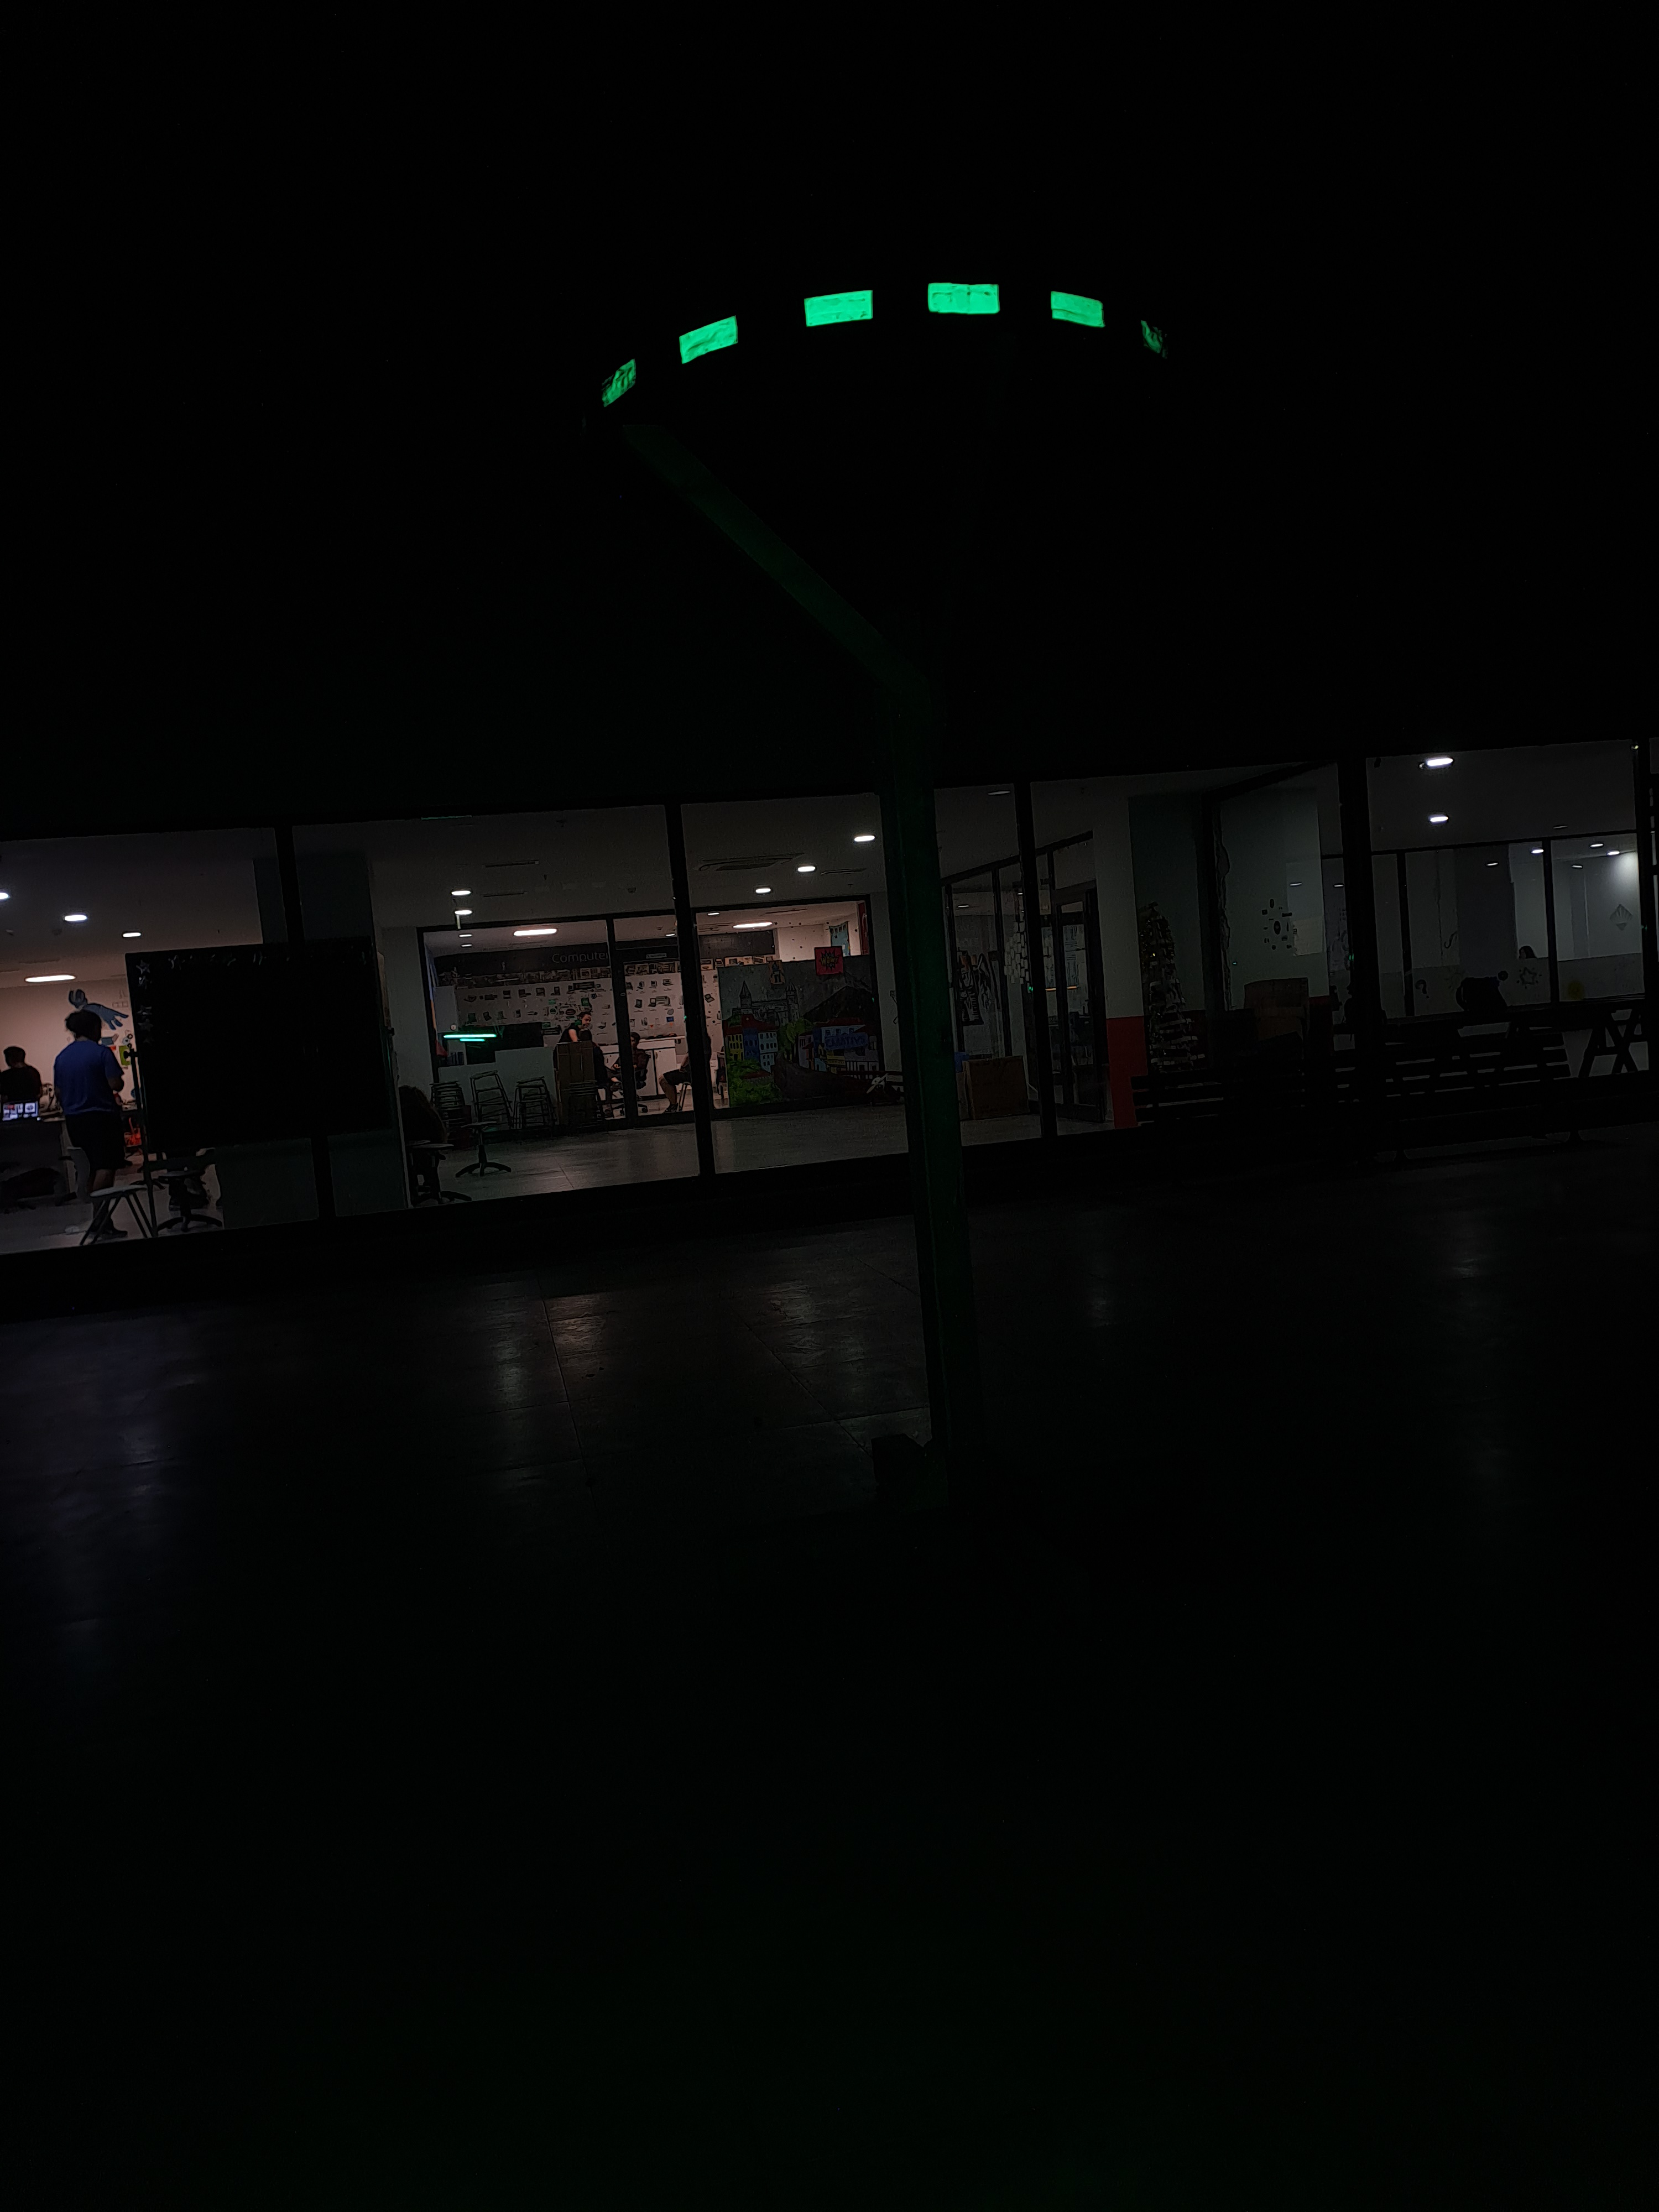hoop: (603, 277, 1171, 406)
